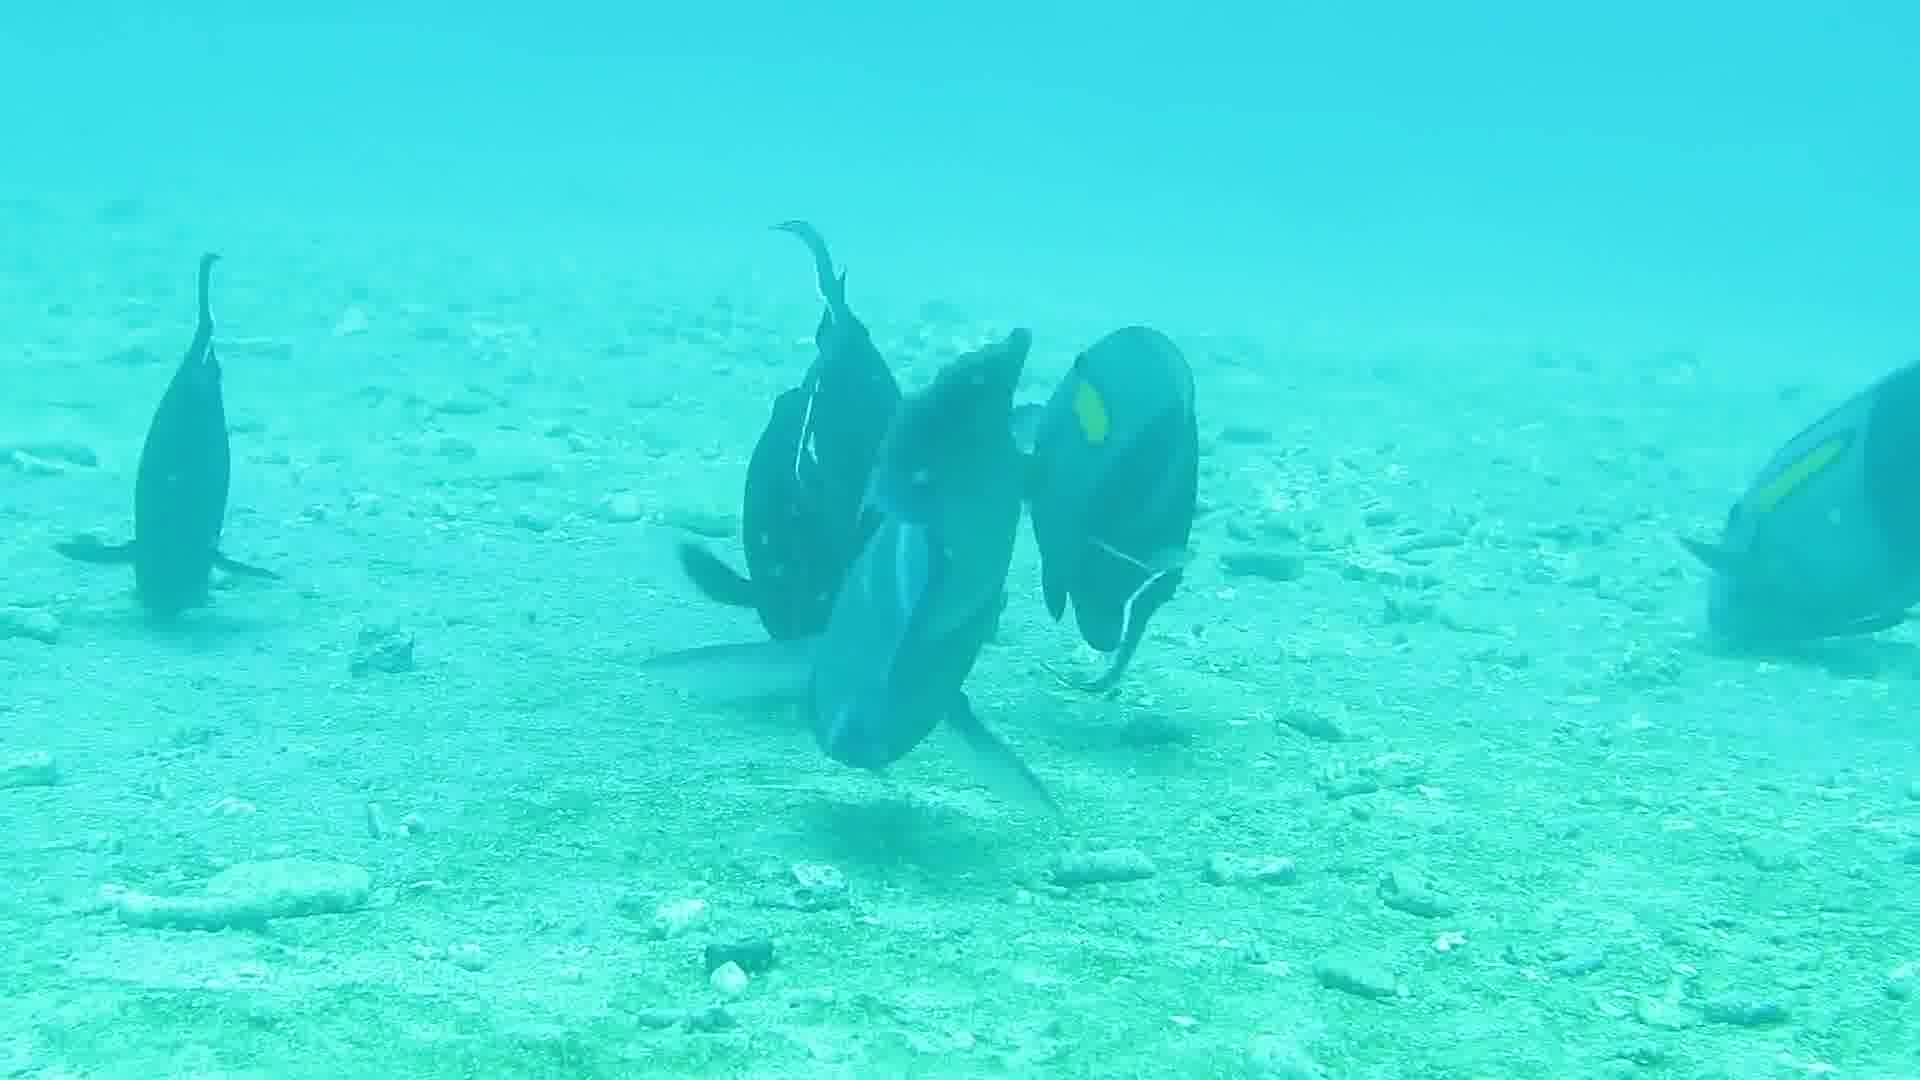Acanthurus olivaceus: (47, 223, 368, 649), (1010, 264, 1331, 690), (1600, 301, 1920, 727), (708, 272, 920, 632), (804, 455, 1013, 764)
